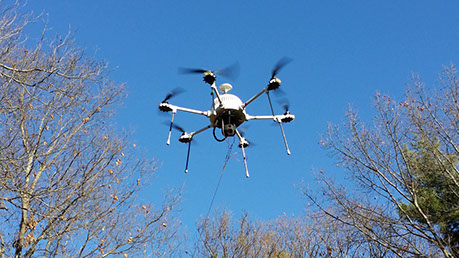drone_rotary_wing: (177, 61, 241, 83), (266, 56, 297, 97), (162, 120, 200, 146), (270, 94, 295, 128), (157, 87, 187, 115), (234, 124, 258, 149)
